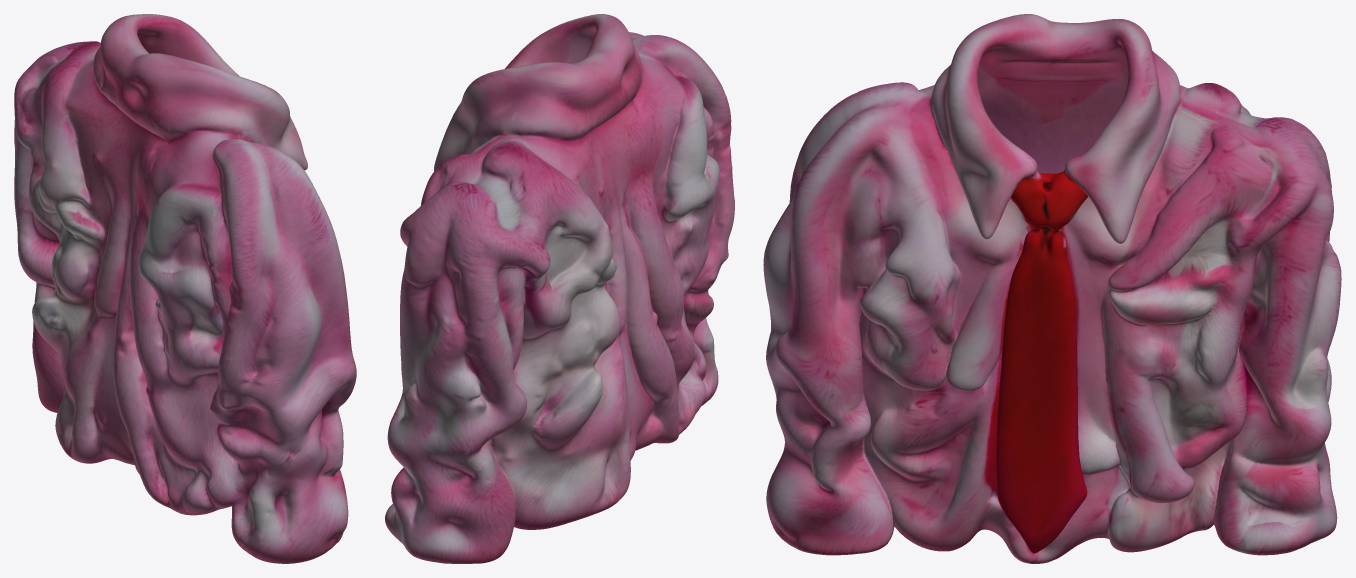
Rendered from jacke.glb.
3 views of the same model, side by side, from view 1: azimuth 30°, elevation 25°; view 2: azimuth 150°, elevation 25°; view 3: azimuth 270°, elevation 25° (orthographic). The views are drawn at different scales.
Parts seen in each view (by area): view 1: tripo_node_11eca778-bbee-4655-a8fd-db7703e5195e; view 2: tripo_node_11eca778-bbee-4655-a8fd-db7703e5195e; view 3: tripo_node_11eca778-bbee-4655-a8fd-db7703e5195e.
Part boxes in pixels (x1,y1,x2,y2): tripo_node_11eca778-bbee-4655-a8fd-db7703e5195e: [14, 14, 356, 563]; tripo_node_11eca778-bbee-4655-a8fd-db7703e5195e: [385, 14, 734, 563]; tripo_node_11eca778-bbee-4655-a8fd-db7703e5195e: [763, 14, 1341, 563].
Bounding box in the file's own units: 8.35 × 17.88 × 18.9.
Materials: 1 (1 with a texture image).
